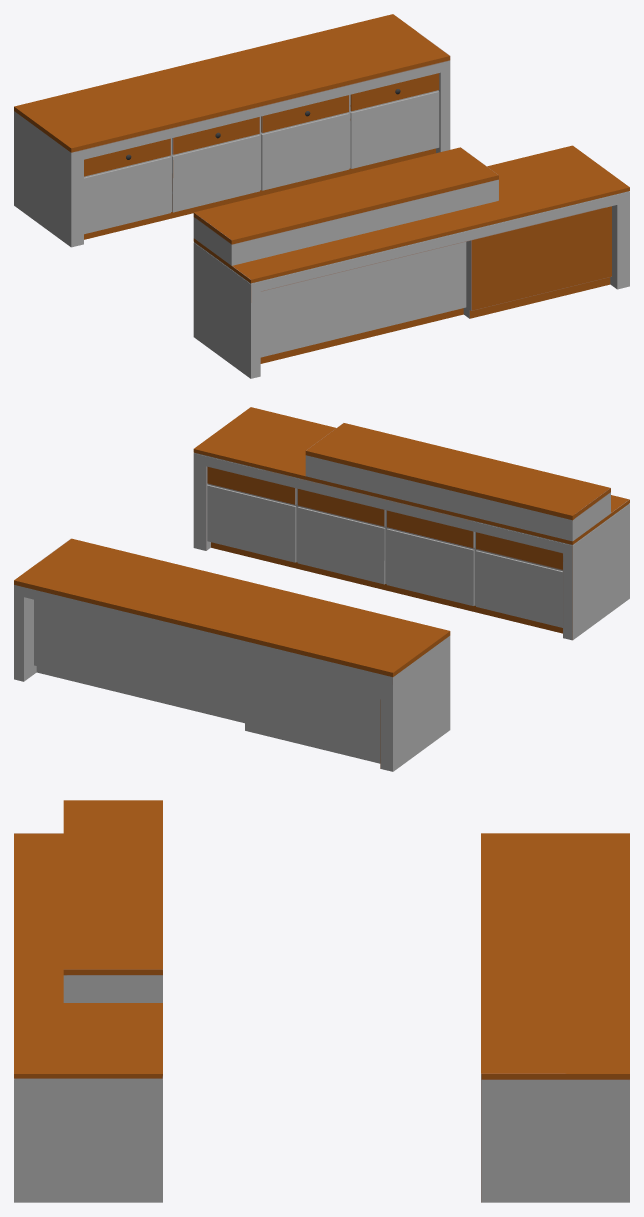
Rendered from CounterTableMain.fbx.
The picture shows the model from 3 angles, top to bottom: view 1: azimuth 30°, elevation 25°; view 2: azimuth 150°, elevation 25°; view 3: azimuth 270°, elevation 25°; orthographic projection. The views are drawn at different scales.
Parts seen in each view (by area): view 1: CounterTable1; view 2: CounterTable1; view 3: CounterTable1.
Boxes of the visible parts, bbox=[...] form: CounterTable1: bbox=[14, 14, 629, 378]; CounterTable1: bbox=[14, 407, 629, 771]; CounterTable1: bbox=[14, 800, 629, 1202].
Size of the model in its own units: 340 by 107 by 368.
1 material, 1 textured.
